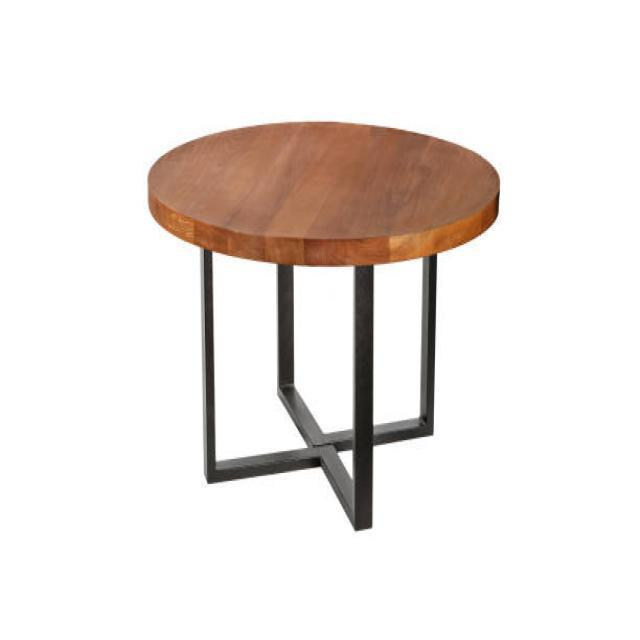table: (146, 119, 500, 530)
